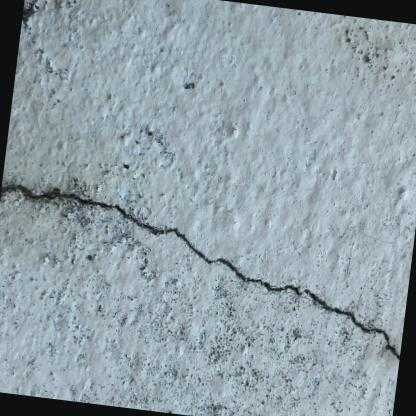crack: (0, 180, 303, 296), (302, 287, 399, 364)
